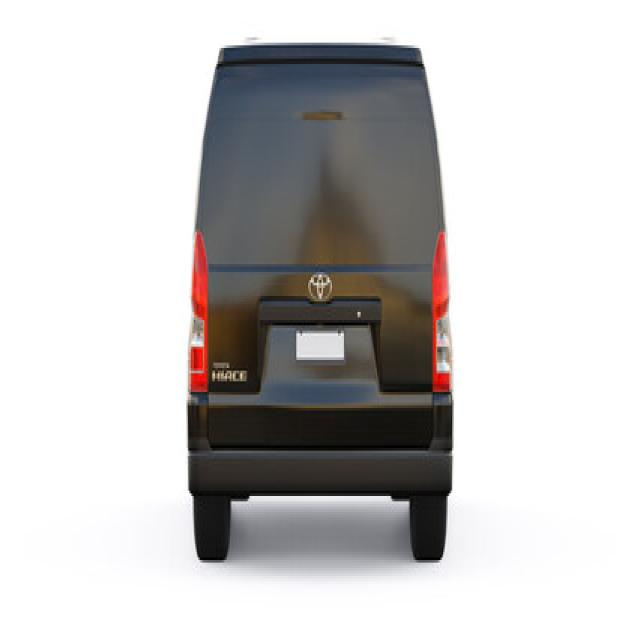van: (188, 45, 451, 560)
